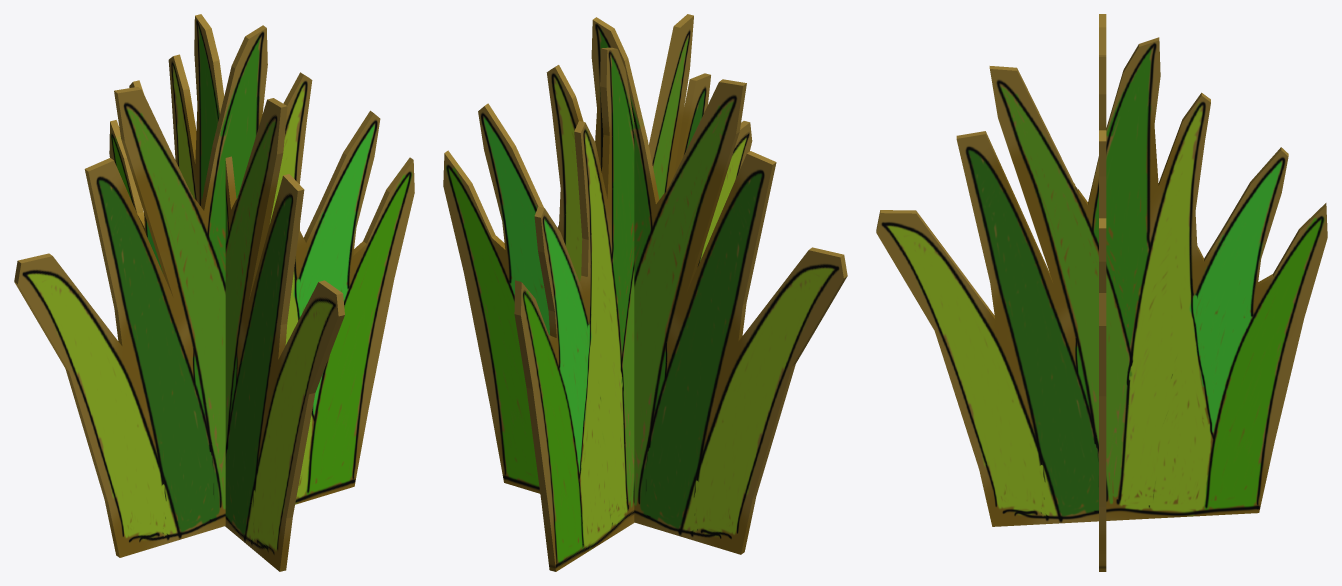
The model's file is Grass(2).fbx.
3 views of the same model, side by side, from view 1: azimuth 30°, elevation 25°; view 2: azimuth 150°, elevation 25°; view 3: azimuth 270°, elevation 25° (orthographic). The views are drawn at different scales.
Visible parts, largest first — view 1: Plane.002, Plane.003; view 2: Plane.002, Plane.003; view 3: Plane.003, Plane.002.
Part boxes in pixels (box(x1,y1,x2,y2)): Plane.002: box(14, 25, 414, 557); Plane.003: box(109, 14, 344, 571); Plane.002: box(443, 17, 847, 554); Plane.003: box(514, 14, 752, 571); Plane.003: box(876, 37, 1327, 526); Plane.002: box(1099, 14, 1106, 571).
Bounding box in the file's own units: 143 × 171 × 143.
Materials: 1 (1 with a texture image).
